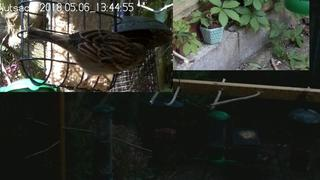sparrow: (27, 27, 146, 82)
